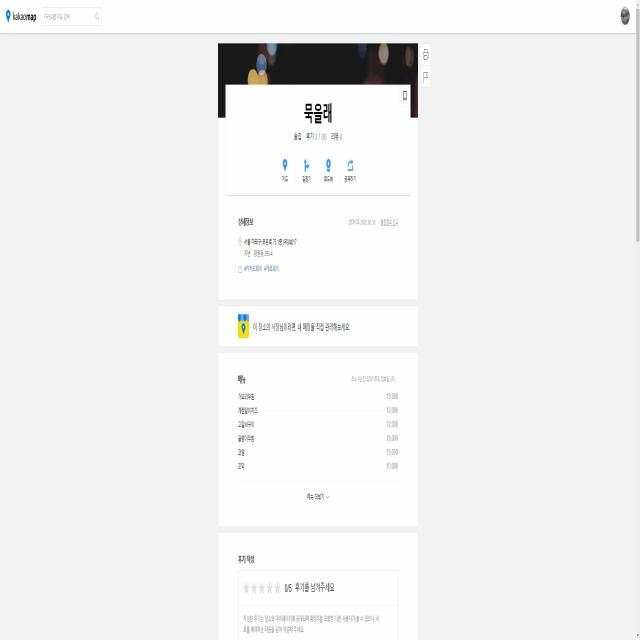menu-bar: (617, 4, 633, 29)
search: (39, 2, 103, 28)
